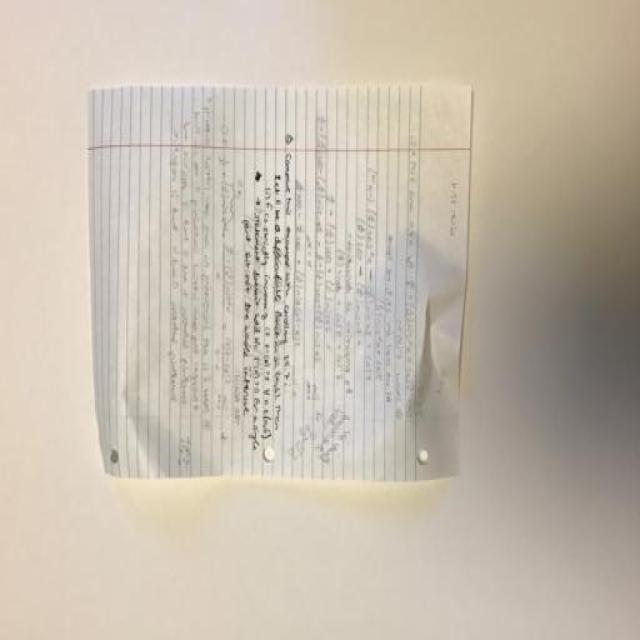paper: (86, 80, 472, 482)
